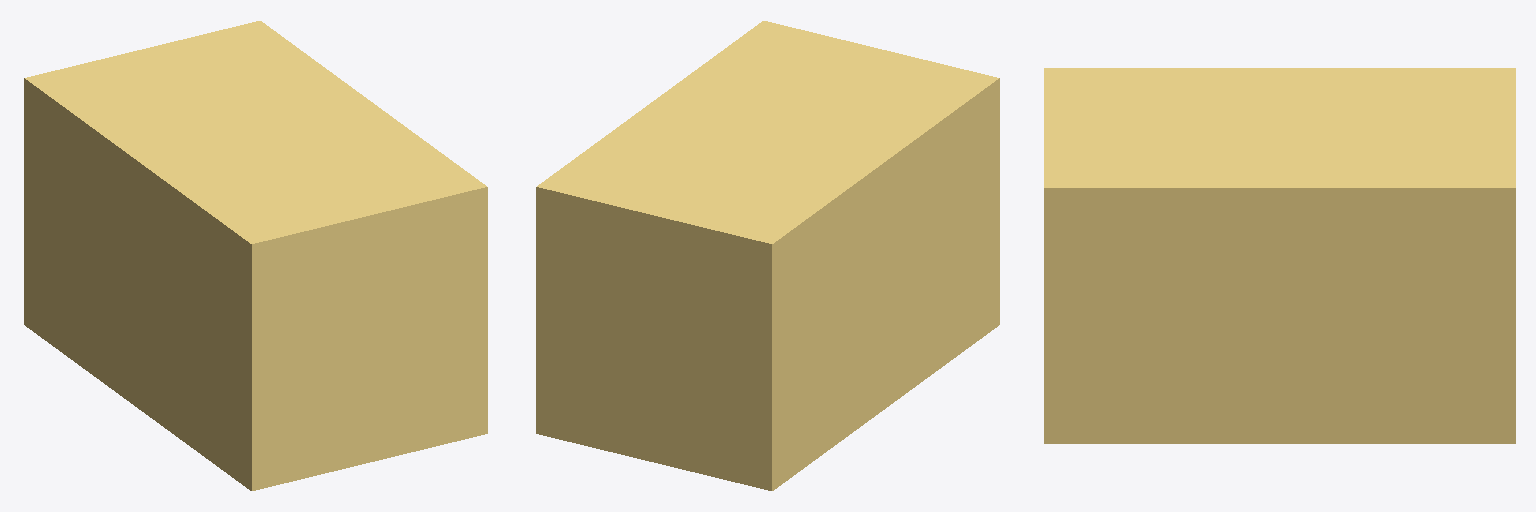
robot.urdf — butter:
<robot name="butter">
  <link name="butter">
    <collision>
      <origin xyz="0.0 0.0 0.015" />
      <geometry>
        <box size="0.03 0.05 0.03" />
      </geometry>
    </collision>
    <visual>
      <origin xyz="0.0 0.0 0.015" />
      <material name="light yellow">
        <color rgba="1. 0.9 0.6 1.0" />
      </material>
      <geometry>
        <box size="0.03 0.05 0.03" />
      </geometry>
    </visual>
  </link>
</robot>

--- Facts derived from the render (not from the file) ---
The picture shows the robot from 3 angles, left to right: view 1: azimuth 30°, elevation 25°; view 2: azimuth 150°, elevation 25°; view 3: azimuth 270°, elevation 25°; orthographic projection.
Robot: butter — 1 links, 0 joints (none); root link butter; default pose: every joint at zero.
Visible links, largest first — view 1: butter; view 2: butter; view 3: butter.
Boxes of the visible links, x1,y1,x2,y2 form: butter: (24,21,487,490); butter: (536,21,999,490); butter: (1044,68,1515,443).
Size in the robot's own frame: 0.03 by 0.05 by 0.03 metres.
Geometry: primitives only (box / cylinder / sphere), no mesh files.